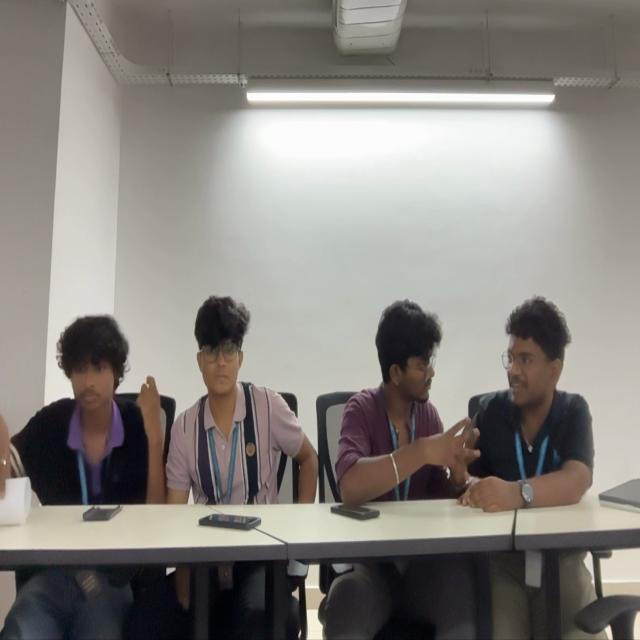Isolated: (1, 296, 165, 497), (170, 302, 315, 494)
socializing: (336, 297, 594, 508)
